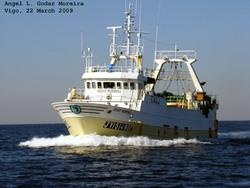otherboat: (49, 1, 223, 146)
